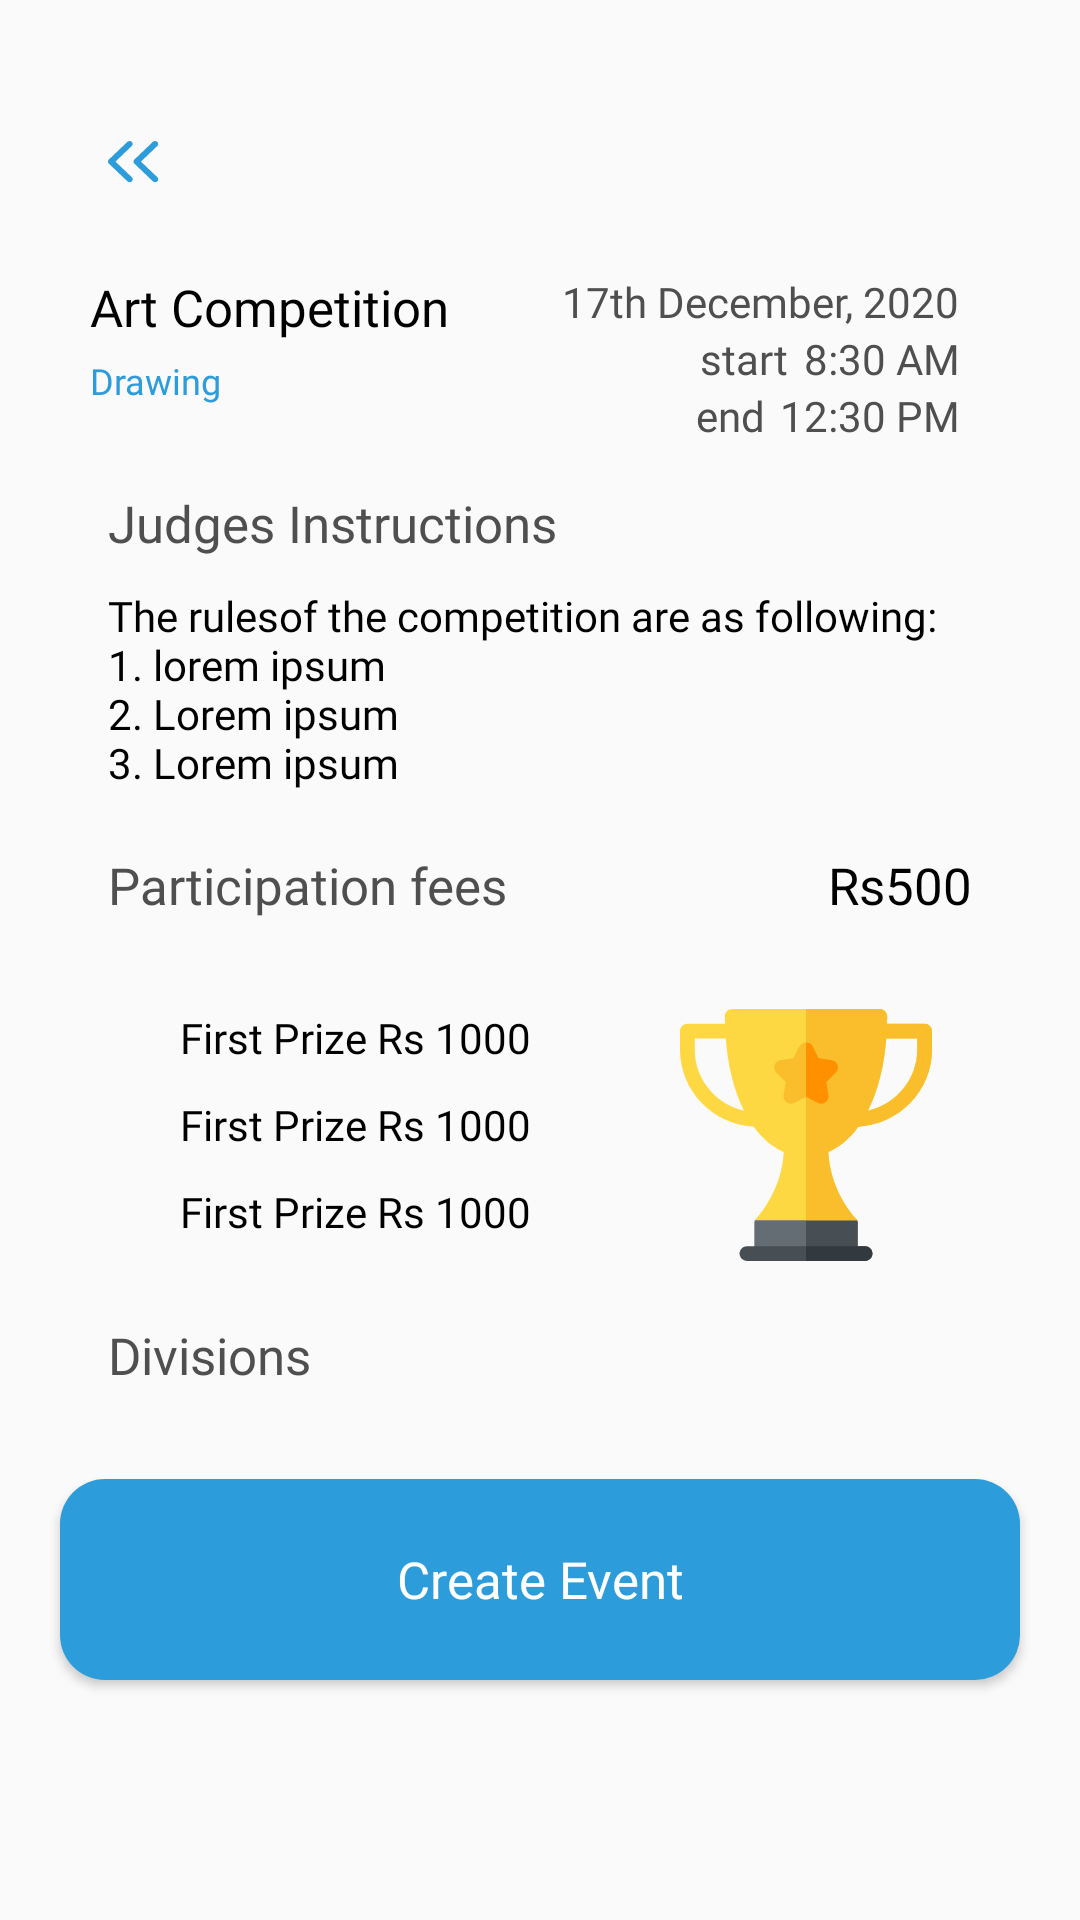

Icon click points for this 1080*1920 phone screenshot, format (x,y):
back: (133,162)
trophy: (806,1135)
